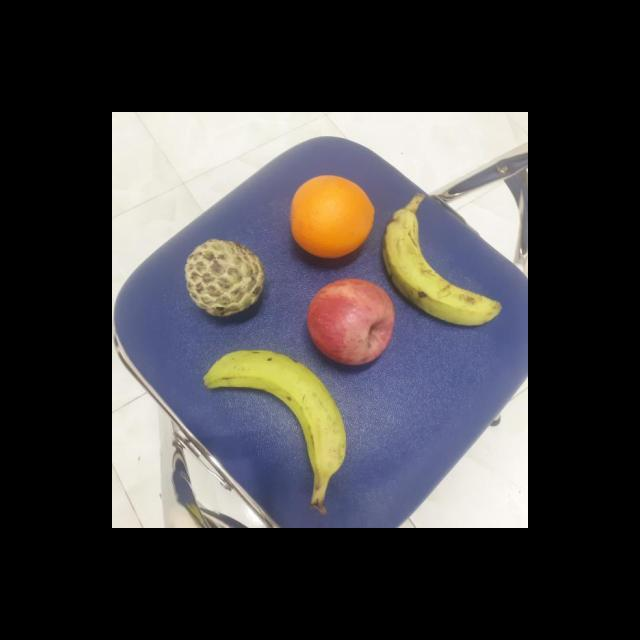Sakya fruit: (181, 234, 268, 316)
apple: (302, 274, 398, 364)
banana: (200, 348, 354, 488), (380, 202, 502, 326)
orange: (287, 171, 377, 260)
